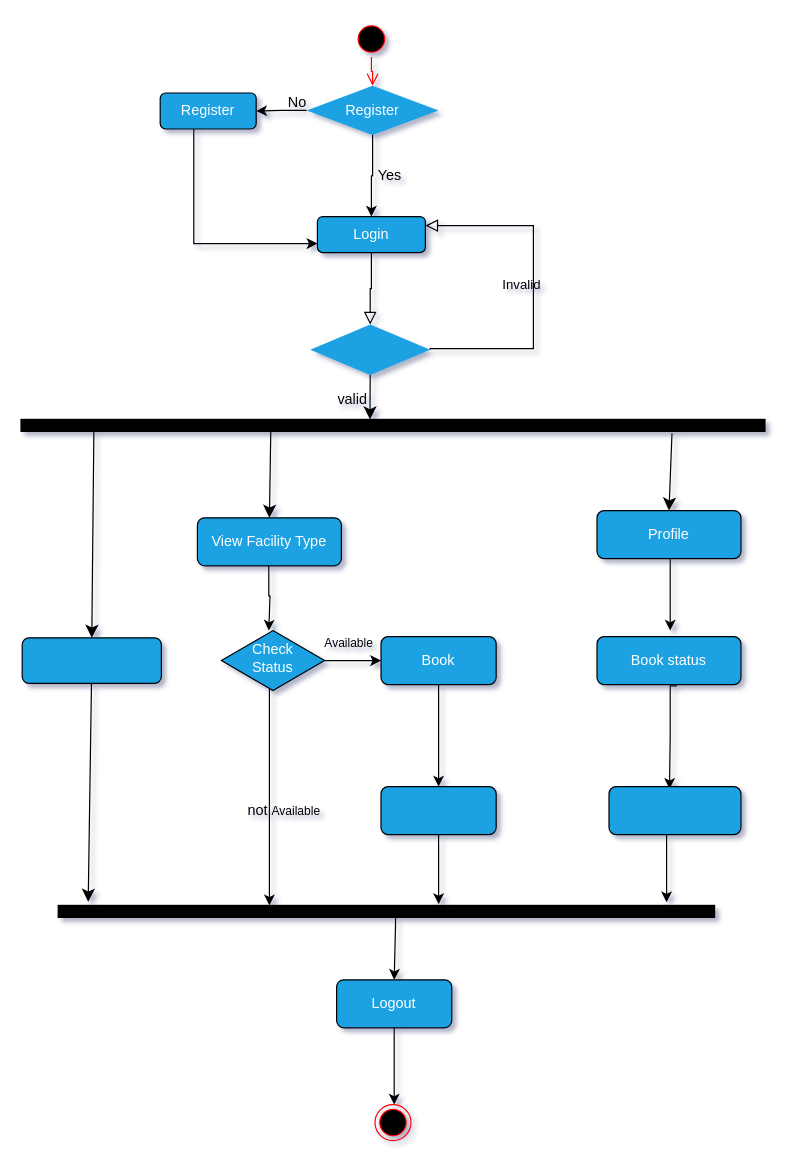
This 793x1169 diagram has some shape labels left out. The shapes that lost their labels are listed below. From the top down, each one's centre as x and y in pixels, then its label:
At (x=370, y=349): "Authentication".
At (x=91, y=660): "Give Feedback".
At (x=438, y=810): "Confirm Book".
At (x=674, y=810): "Cancel booking".
